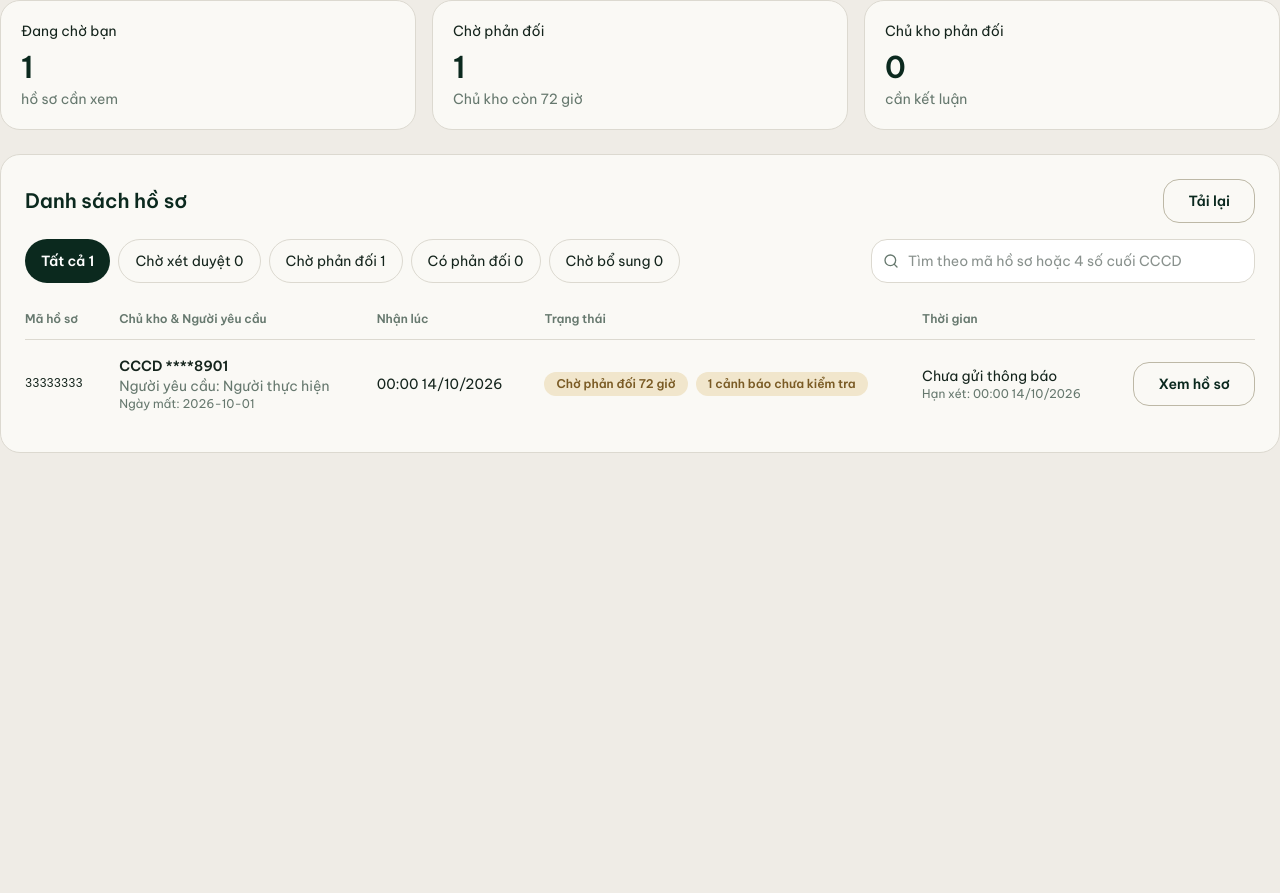
Test: Tải lại cập nhật quyền duyệt của hồ sơ đang chọn kể cả khi cache còn fresh
The image size is (1280, 893).
Click the button with aria-label "Xem hồ sơ #33333333" at (1194, 384), box left=1134, top=362, right=1255, bottom=406
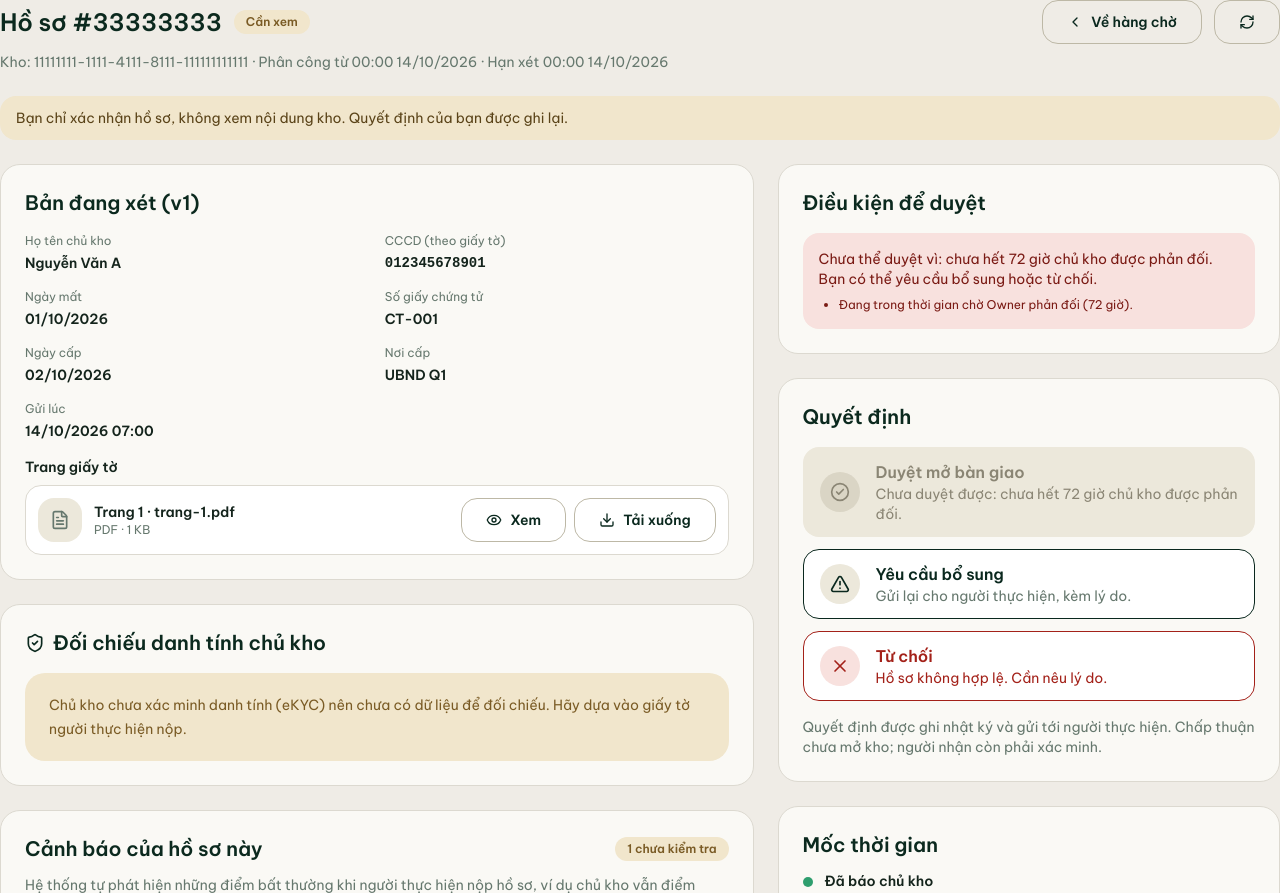
Expected: the text "012345678901" is shown, left=385, top=255, right=486, bottom=271
Expected: the button "Duyệt mở bàn giao" is disabled, left=803, top=447, right=1255, bottom=537
Click the button named "Tải lại" at (1247, 22), box left=1214, top=0, right=1279, bottom=44
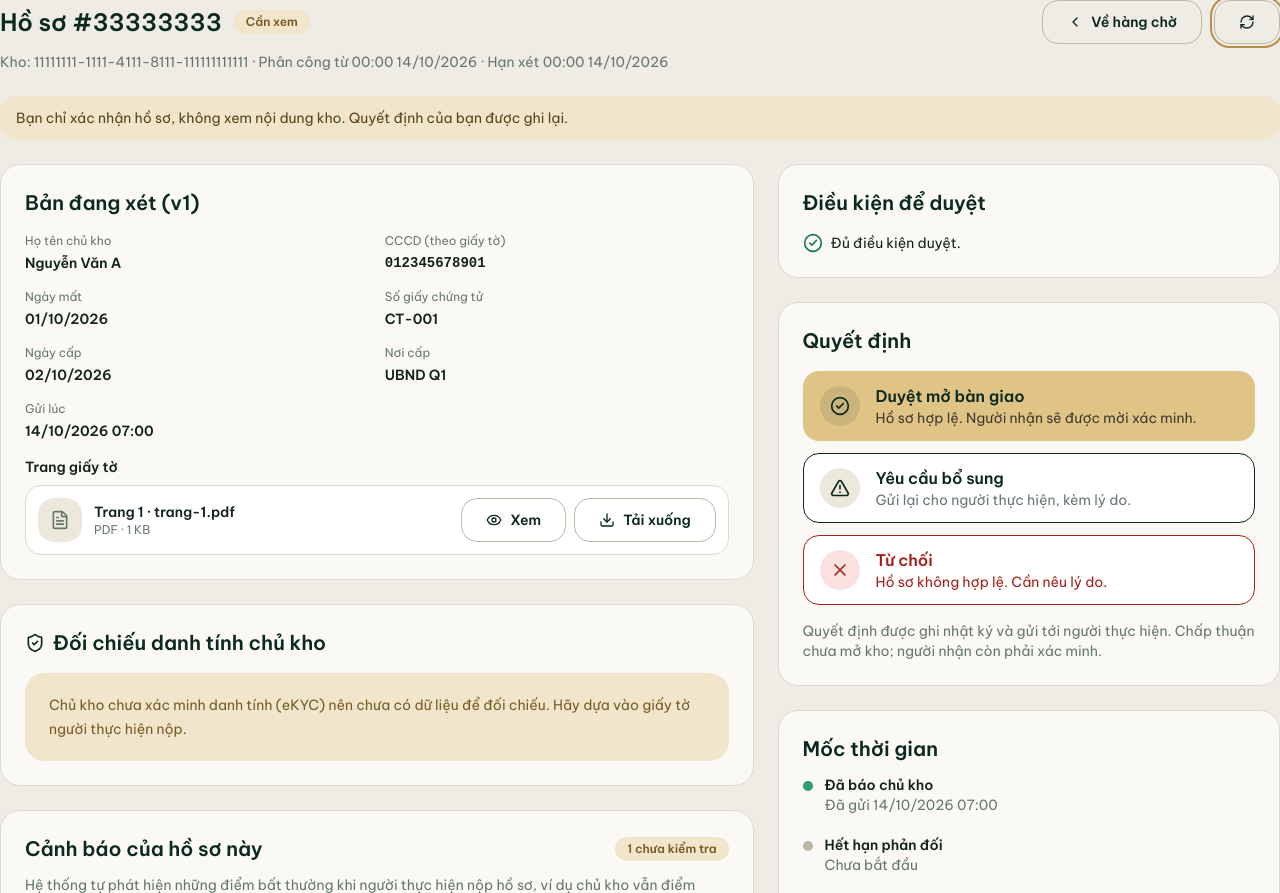
Expected: the button "Duyệt mở bàn giao" is enabled, left=803, top=371, right=1255, bottom=441
